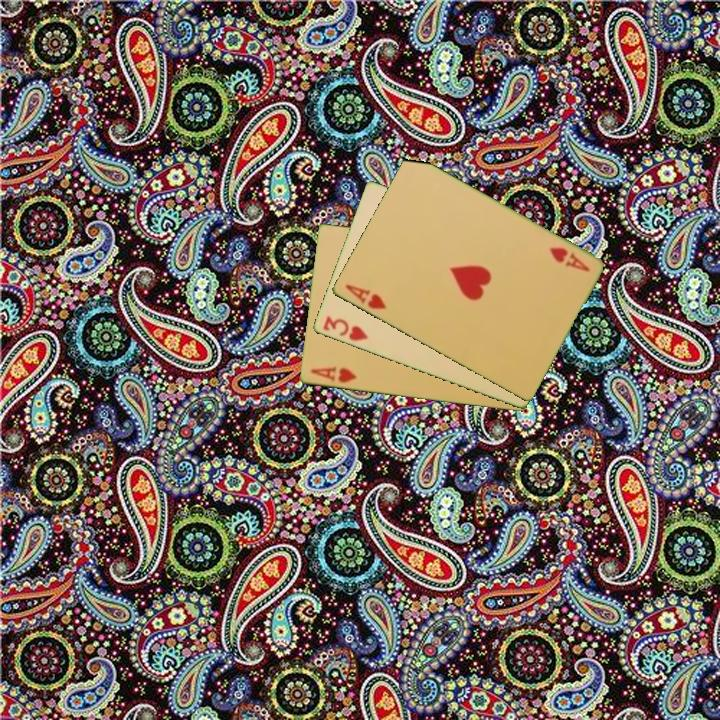3h: (319, 313, 370, 344)
Ah: (341, 281, 389, 313), (545, 244, 592, 275), (307, 363, 359, 386)
